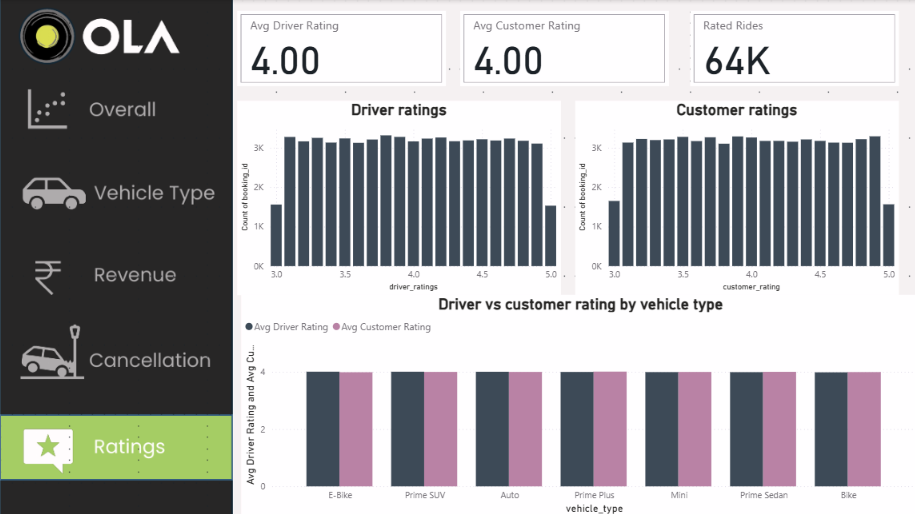

The dashboard page shown, as its layout file describes it:
{"tool":"powerbi","page":{"name":"Ratings","canvas":[1280,720],"ordinal":4},"visuals":[{"type":"clusteredColumnChart","title":"Driver ratings","fields":{"Category":["ola_rides.driver_ratings"],"Y":["CountNonNull(ola_rides.booking_id)"]},"box":[330,140,450,270],"z":0},{"type":"clusteredColumnChart","title":"Customer ratings","fields":{"Category":["ola_rides.customer_rating"],"Y":["CountNonNull(ola_rides.booking_id)"]},"box":[800,140,450,270],"z":1},{"type":"cardVisual","fields":{"Data":["ola_rides.Avg Driver Rating"]},"box":[330,15,290,105],"z":2},{"type":"cardVisual","fields":{"Data":["ola_rides.Avg Customer Rating"]},"box":[640,15.3,290,105],"z":3},{"type":"cardVisual","fields":{"Data":["ola_rides.Rated Rides"]},"box":[960,15.3,290,105],"z":4},{"type":"clusteredColumnChart","title":"Driver vs customer rating by vehicle type","fields":{"Category":["ola_rides.vehicle_type"],"Y":["ola_rides.Avg Driver Rating","ola_rides.Avg Customer Rating"]},"box":[335.3,410.4,944.7,310.3],"z":5},{"type":"actionButton","box":[2.8,446.6,324.5,89.2],"z":6},{"type":"actionButton","box":[0,342.3,324.5,89.2],"z":7},{"type":"actionButton","box":[1.4,109.9,324.5,89.2],"z":8},{"type":"actionButton","box":[0,231,324.5,89.2],"z":9}]}

Visuals, with their boxes on the page's 1280x720 design canvas (x1, y1, x2, y2). These are canvas units, not pixel positions in the 915x514 screenshot, which may show the page scaled, cropped or inside an application window:
"Driver ratings" clusteredColumnChart: bbox=(330, 140, 780, 410)
"Customer ratings" clusteredColumnChart: bbox=(800, 140, 1250, 410)
cardVisual - ola_rides.Avg Driver Rating: bbox=(330, 15, 620, 120)
cardVisual - ola_rides.Avg Customer Rating: bbox=(640, 15, 930, 120)
cardVisual - ola_rides.Rated Rides: bbox=(960, 15, 1250, 120)
"Driver vs customer rating by vehicle type" clusteredColumnChart: bbox=(335, 410, 1280, 721)
actionButton: bbox=(3, 447, 327, 536)
actionButton: bbox=(0, 342, 324, 432)
actionButton: bbox=(1, 110, 326, 199)
actionButton: bbox=(0, 231, 324, 320)
